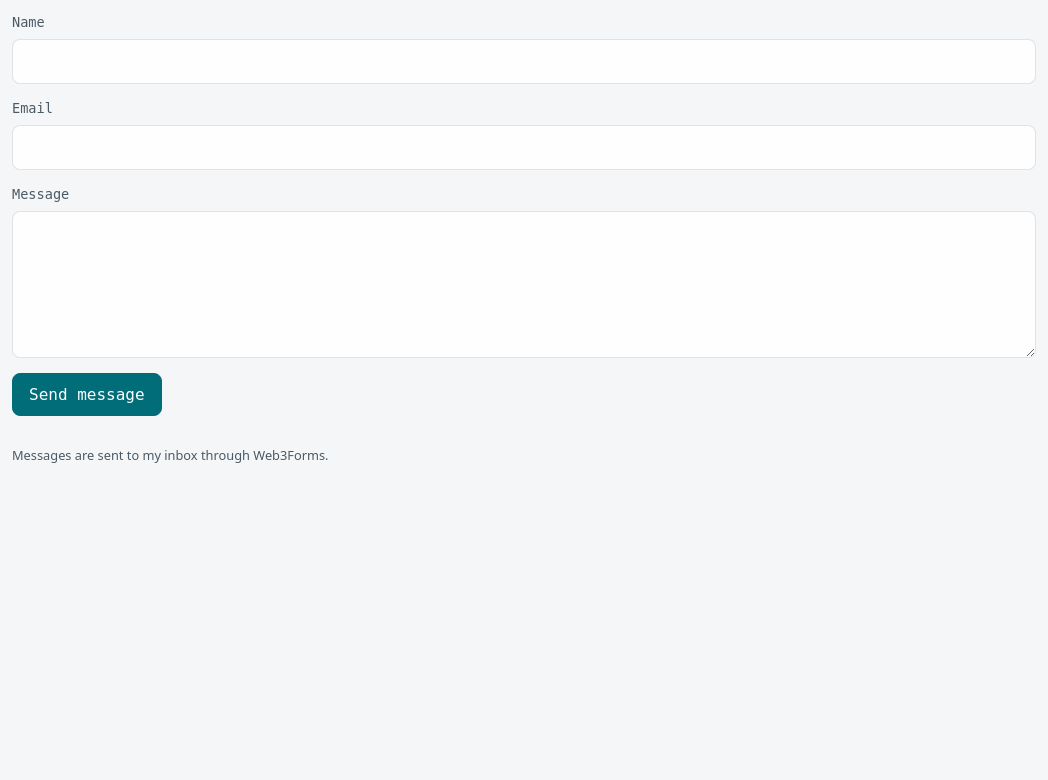
Test: ContactForm › clears the summary and a field error once the field becomes valid
The width and height of the screenshot is (1048, 780).
Click the button "Send message" at (87,395), box [12,373,162,416]
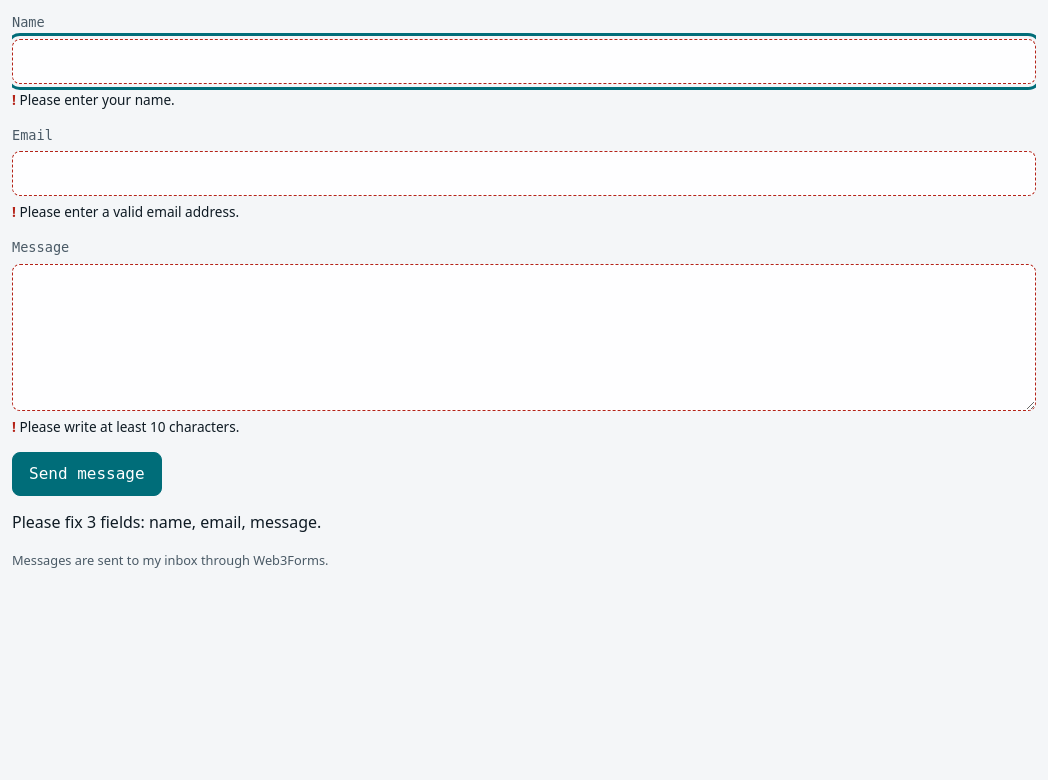
Type "Ada" into the field labelled "Name" at (524,61), box [12,38,1036,84]
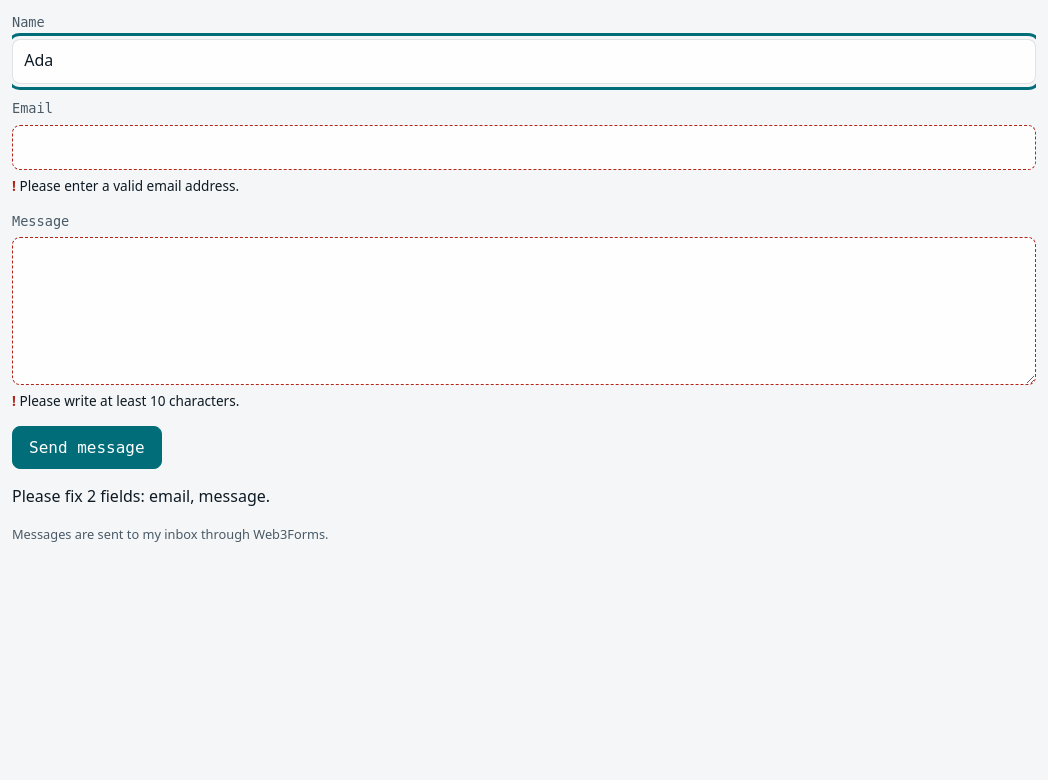
Result: the field labelled "Name" does not have attribute aria-invalid at [12,38,1036,84]
Result: the field labelled "Email" is marked as invalid
Type "ada@example.com" into the field labelled "Email" at (524,147), box [12,125,1036,170]
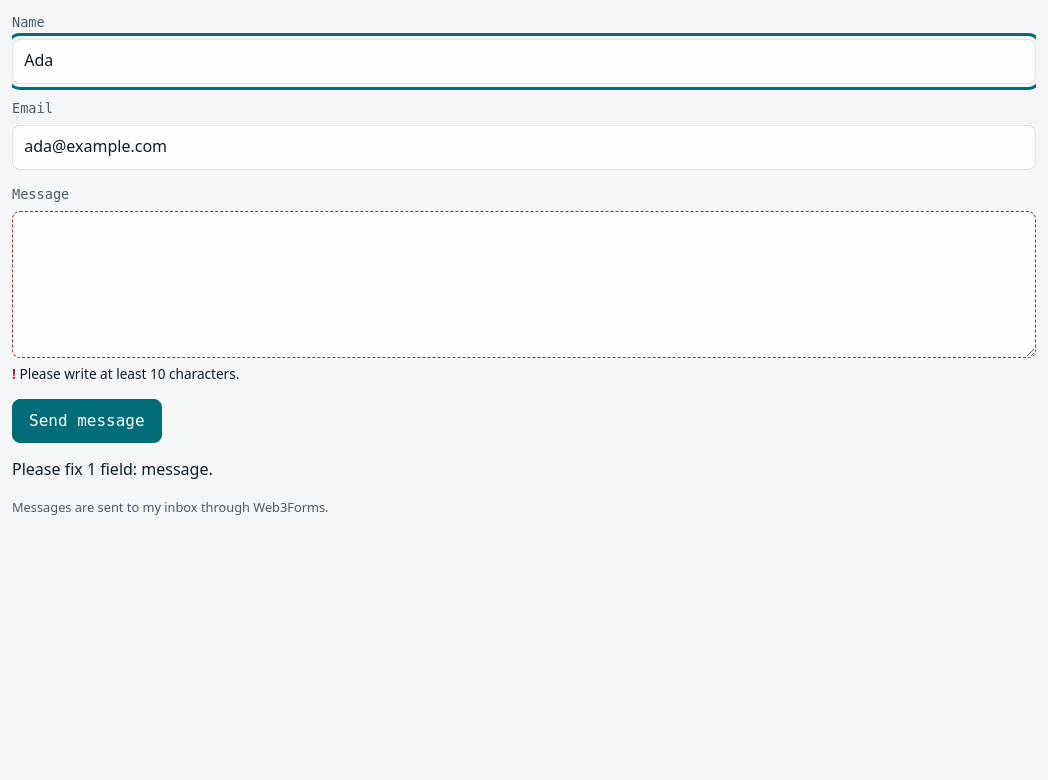
Type "Hello there, a longer message." into the text box labelled "Message" at (524,285), box [12,211,1036,358]
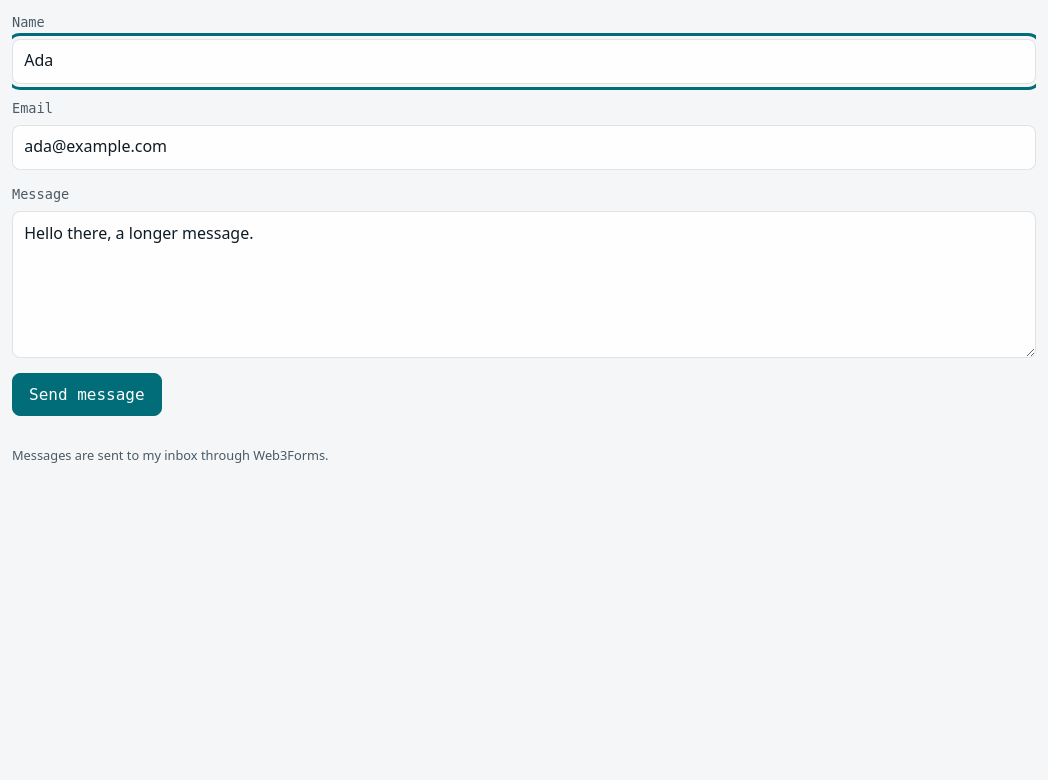
Click the button "Send message" at (87,395), box [12,373,162,416]
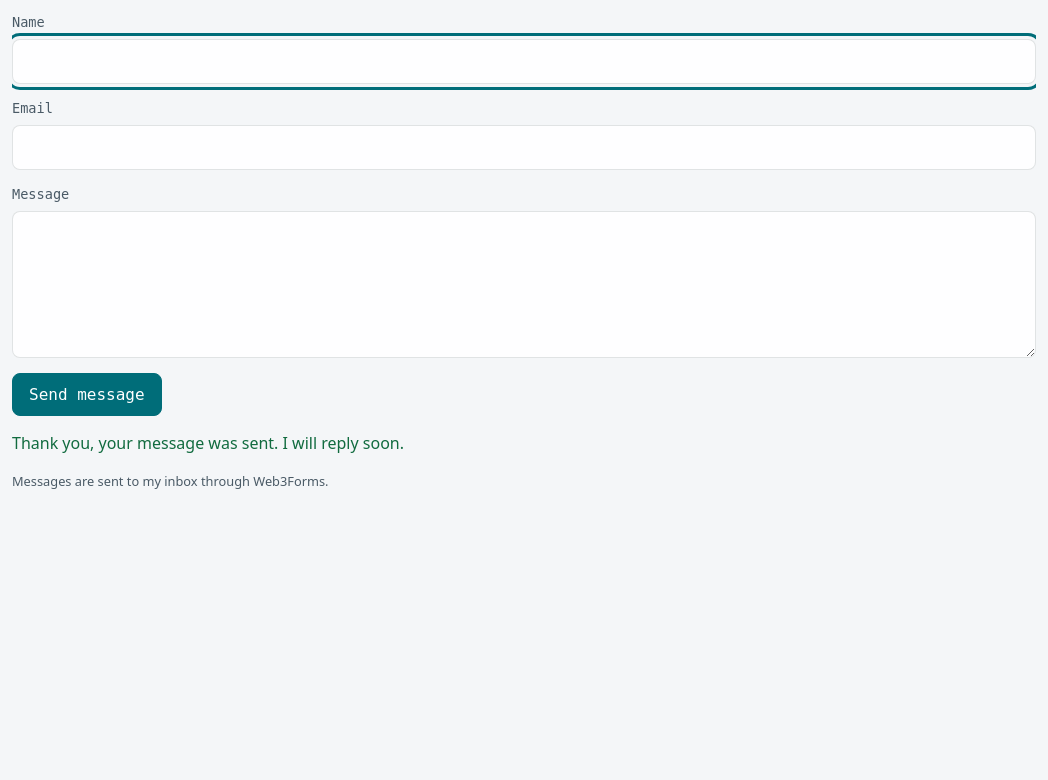
Result: the message does not show "Please fix" at [12,432,404,454]
Result: the message shows "Thank" at [12,432,404,454]
